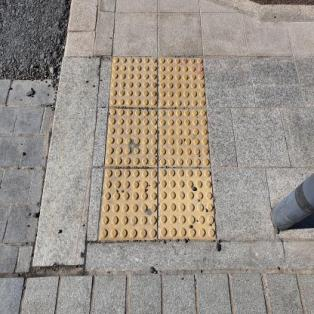Podoctatil: (91, 47, 223, 248)
